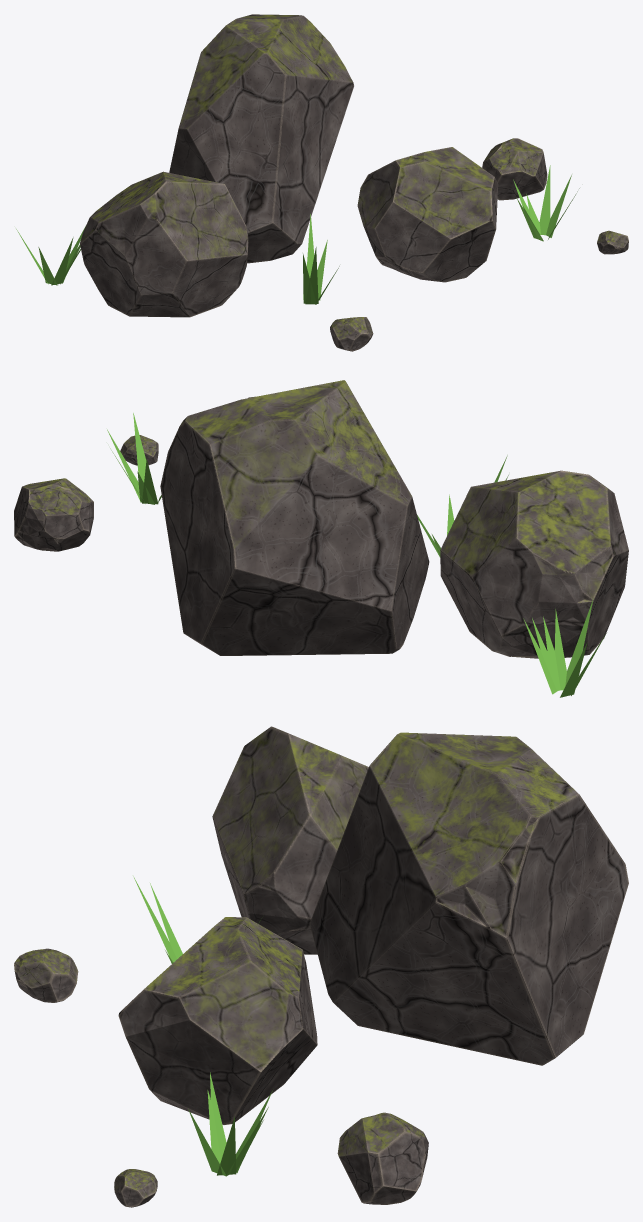
Rendered from Cluster_Small.fbx.
The picture shows the model from 3 angles, top to bottom: view 1: azimuth 30°, elevation 25°; view 2: azimuth 150°, elevation 25°; view 3: azimuth 270°, elevation 25°; orthographic projection. The views are drawn at different scales.
Visible parts, largest first — view 1: Cluster_Small_Stone_Boulder_B, Cluster_Small_Stone_Medium_B, Cluster_Small_Stone_Medium_C, Cluster_Small_Grass, Cluster_Small_Stone_Small_C, Cluster_Small_Stone_Pebble, Cluster_Small_Stone_Pebble.001; view 2: Cluster_Small_Stone_Boulder_B, Cluster_Small_Stone_Medium_B, Cluster_Small_Stone_Small_C, Cluster_Small_Grass, Cluster_Small_Stone_Pebble.001; view 3: Cluster_Small_Stone_Boulder_B, Cluster_Small_Stone_Medium_C, Cluster_Small_Stone_Medium_B, Cluster_Small_Stone_Small_C, Cluster_Small_Grass, Cluster_Small_Stone_Pebble, Cluster_Small_Stone_Pebble.001.
Part boxes in pixels (x1,y1,x2,y2): Cluster_Small_Stone_Boulder_B: [169, 14, 353, 263]; Cluster_Small_Stone_Medium_B: [80, 171, 248, 317]; Cluster_Small_Stone_Medium_C: [357, 147, 498, 282]; Cluster_Small_Grass: [16, 165, 579, 304]; Cluster_Small_Stone_Small_C: [482, 138, 547, 200]; Cluster_Small_Stone_Pebble: [330, 317, 373, 351]; Cluster_Small_Stone_Pebble.001: [597, 230, 628, 254]; Cluster_Small_Stone_Boulder_B: [160, 380, 429, 655]; Cluster_Small_Stone_Medium_B: [440, 470, 628, 658]; Cluster_Small_Stone_Small_C: [14, 478, 93, 551]; Cluster_Small_Grass: [107, 413, 606, 697]; Cluster_Small_Stone_Pebble.001: [120, 435, 158, 465]; Cluster_Small_Stone_Boulder_B: [309, 732, 628, 1065]; Cluster_Small_Stone_Medium_C: [118, 917, 317, 1124]; Cluster_Small_Stone_Medium_B: [212, 726, 368, 954]; Cluster_Small_Stone_Small_C: [337, 1112, 428, 1204]; Cluster_Small_Grass: [133, 876, 272, 1176]; Cluster_Small_Stone_Pebble: [14, 948, 78, 1002]; Cluster_Small_Stone_Pebble.001: [114, 1169, 157, 1207].
Bounding box in the file's own units: 1.88 × 0.6998 × 1.38.
